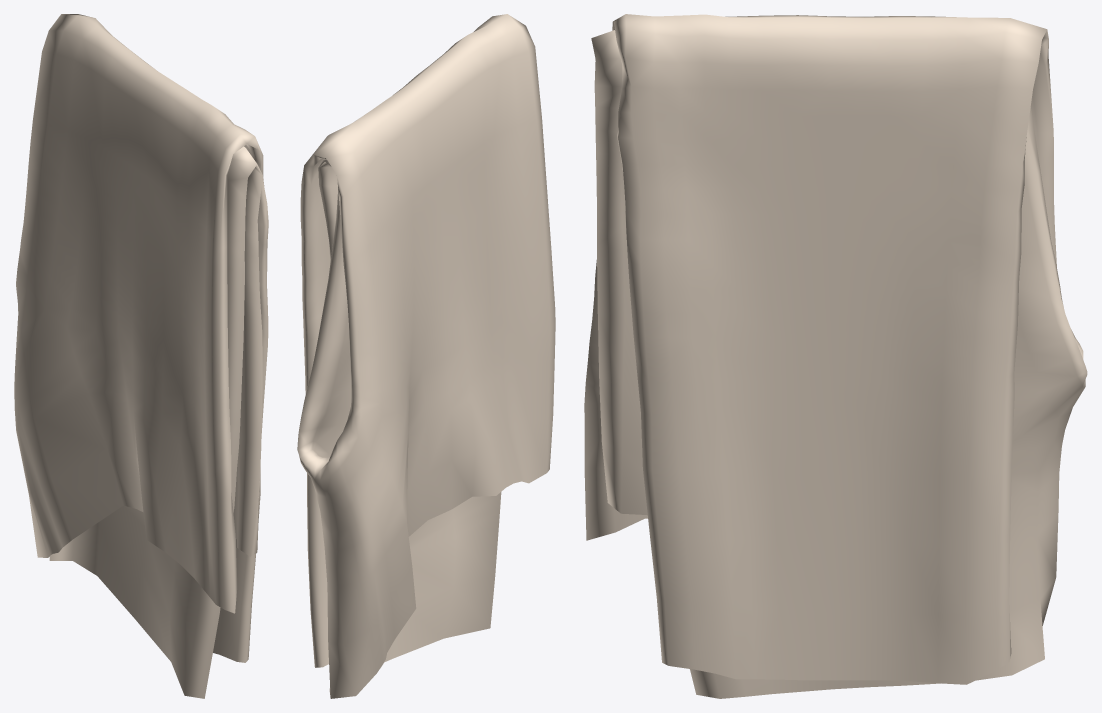
File: pant6.glb
3 views of the same model, side by side, from view 1: azimuth 30°, elevation 25°; view 2: azimuth 150°, elevation 25°; view 3: azimuth 270°, elevation 25° (orthographic). The views are drawn at different scales.
Visible parts, largest first — view 1: pants_011; view 2: pants_011; view 3: pants_011.
Boxes of the visible parts, <box> form: pants_011: <box>14,14,268,698</box>; pants_011: <box>297,14,555,698</box>; pants_011: <box>584,14,1087,698</box>.
Size of the model in its own units: 0.0676 by 0.4014 by 0.2664.
